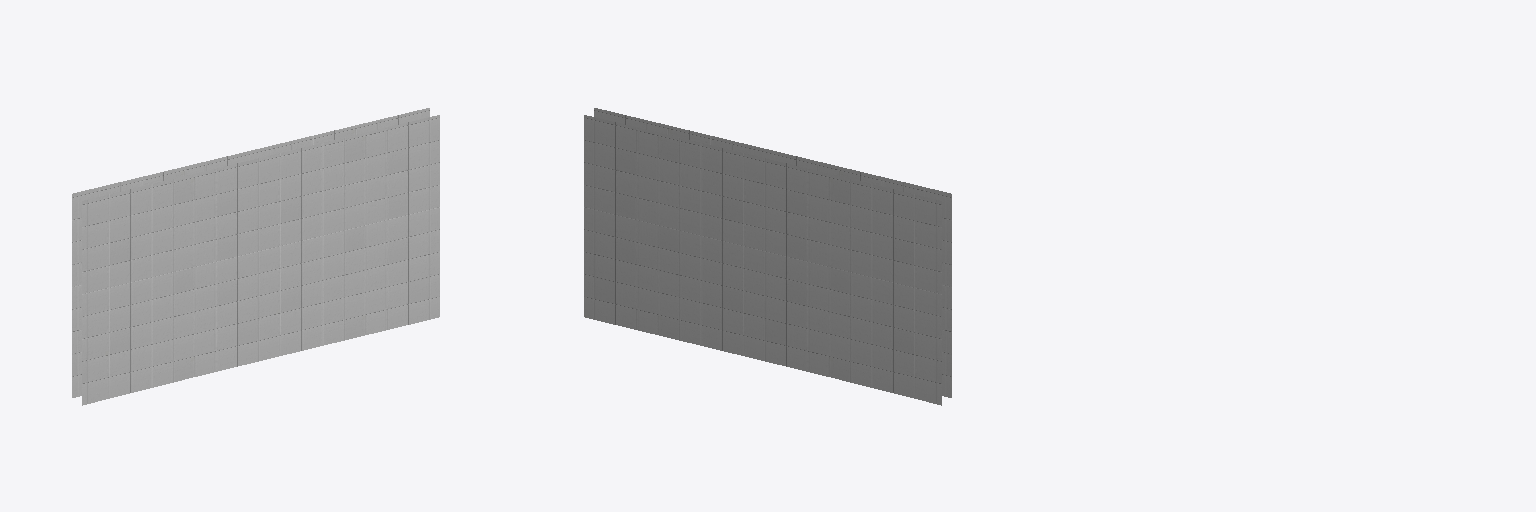
The picture shows the model from 3 angles: view 1: azimuth 30°, elevation 25°; view 2: azimuth 150°, elevation 25°; view 3: azimuth 270°, elevation 25°; orthographic projection.
Parts seen in each view (by area): view 1: floor_13; view 2: floor_13; view 3: none.
Part boxes in pixels (left/top/right/bottom): floor_13: left=72, top=108, right=439, bottom=405; floor_13: left=584, top=108, right=951, bottom=405.
Bounding box in the file's own units: 2.09 × 1.14 × 0.1.
Materials: 1 (1 with a texture image).